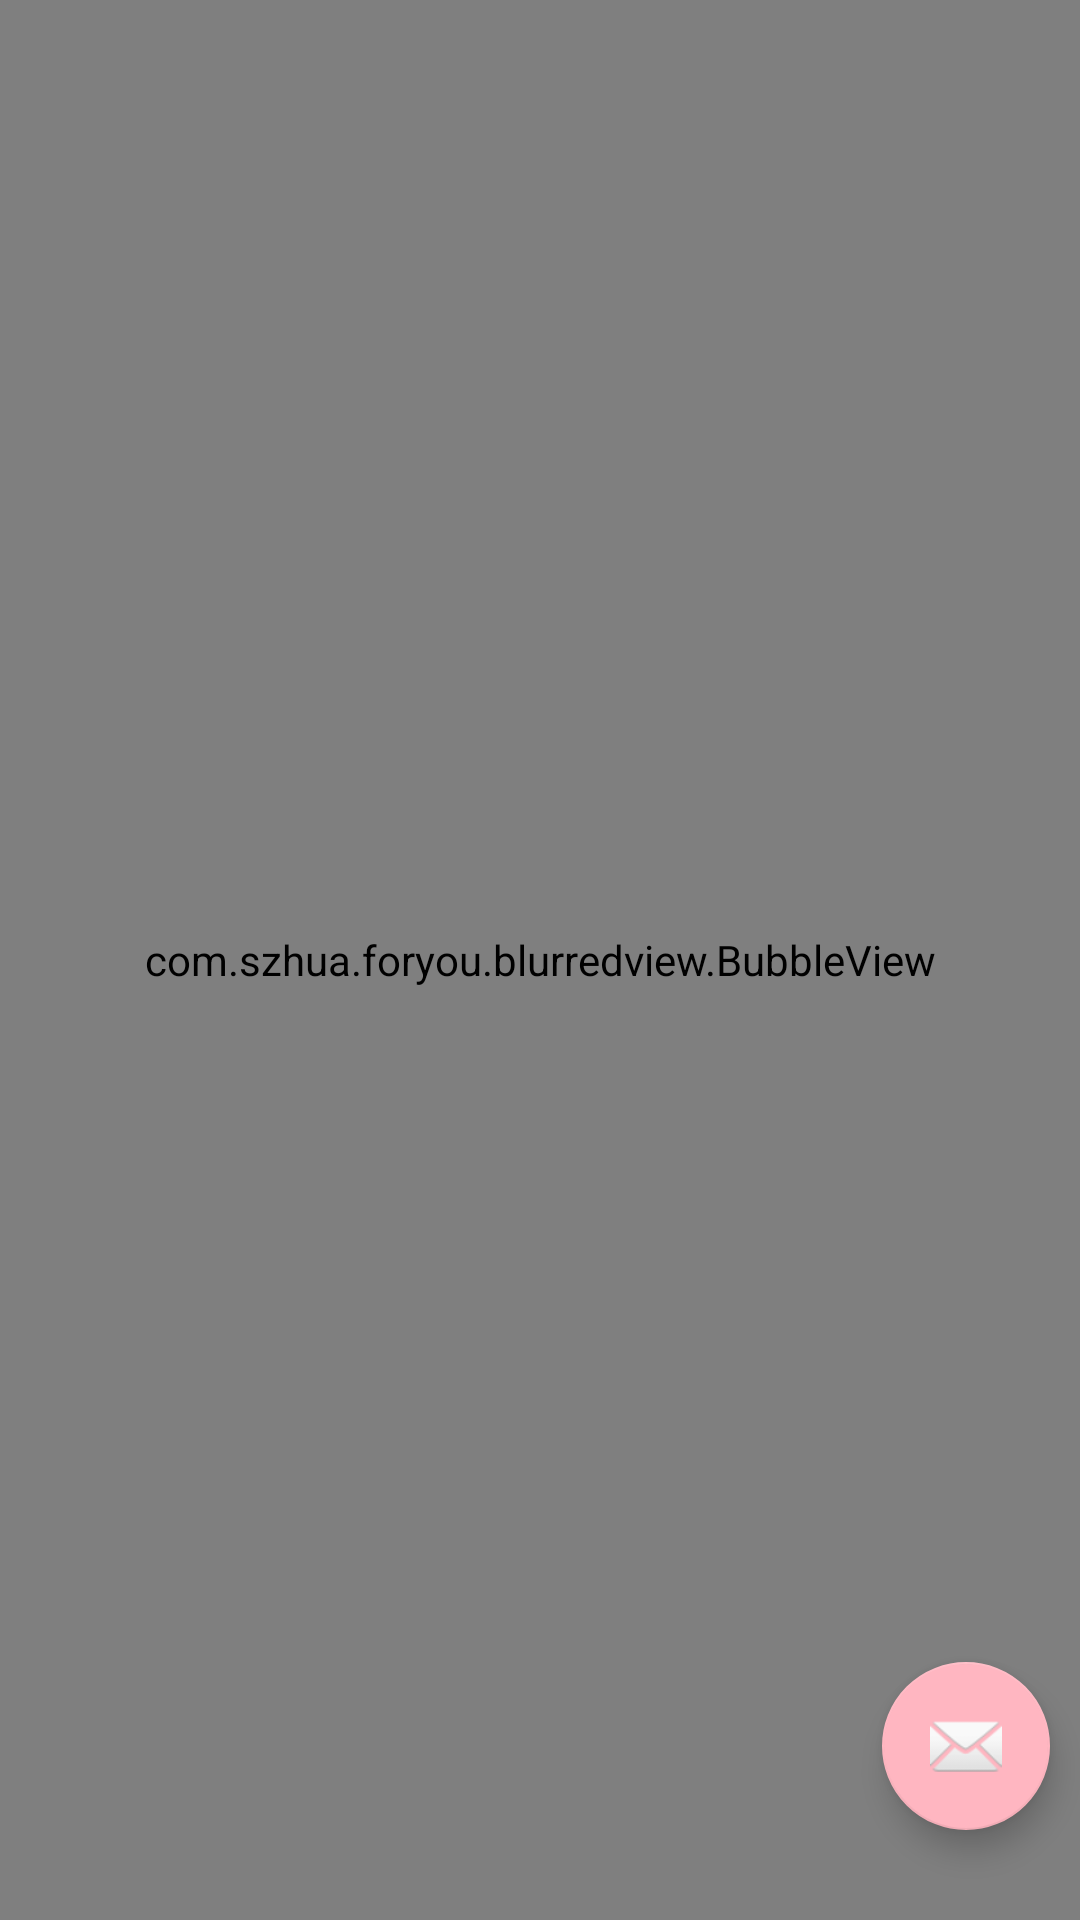

Icon click points for this 1080w x 1920h phone screenshot, format (x=x, y=y):
email: (x=966, y=1746)
